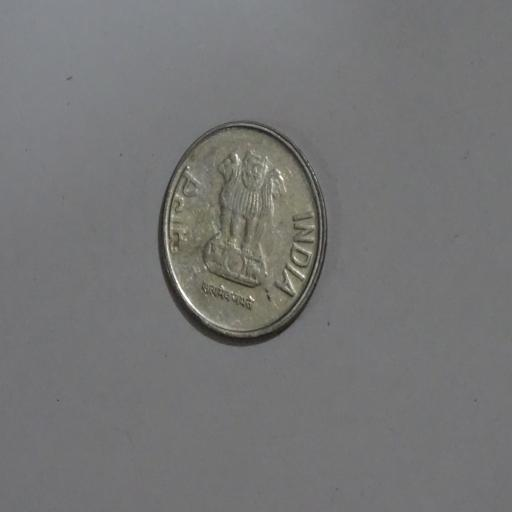rupee1: (157, 121, 328, 342)
